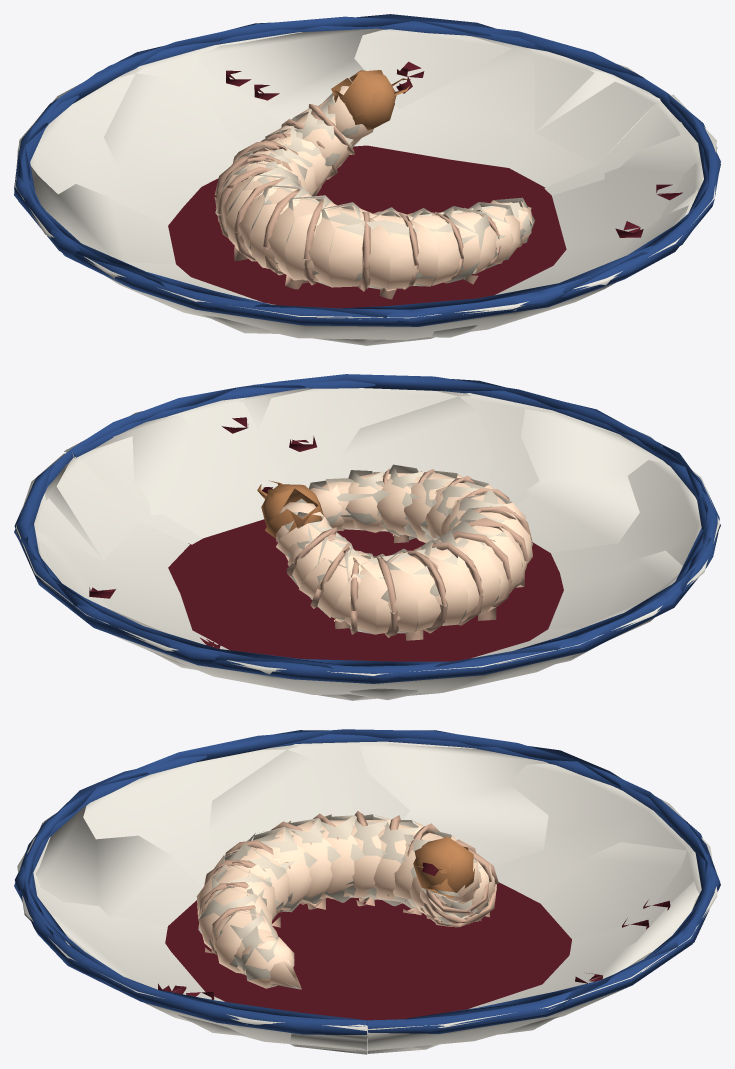
Rendered from prop_liquor_worm.gltf.
3 views of the same model, one above another, from view 1: azimuth 30°, elevation 25°; view 2: azimuth 150°, elevation 25°; view 3: azimuth 270°, elevation 25° (orthographic).
Parts seen in each view (by area): view 1: Far, Near; view 2: Far, Near; view 3: Far, Near.
Part boxes in pixels (x1,y1,x2,y2): Far: [14, 14, 720, 345]; Near: [14, 21, 720, 345]; Far: [14, 374, 720, 700]; Near: [14, 380, 720, 700]; Far: [14, 729, 720, 1054]; Near: [15, 734, 719, 1053].
Bounding box in the file's own units: 0.1285 × 0.035 × 0.129.
